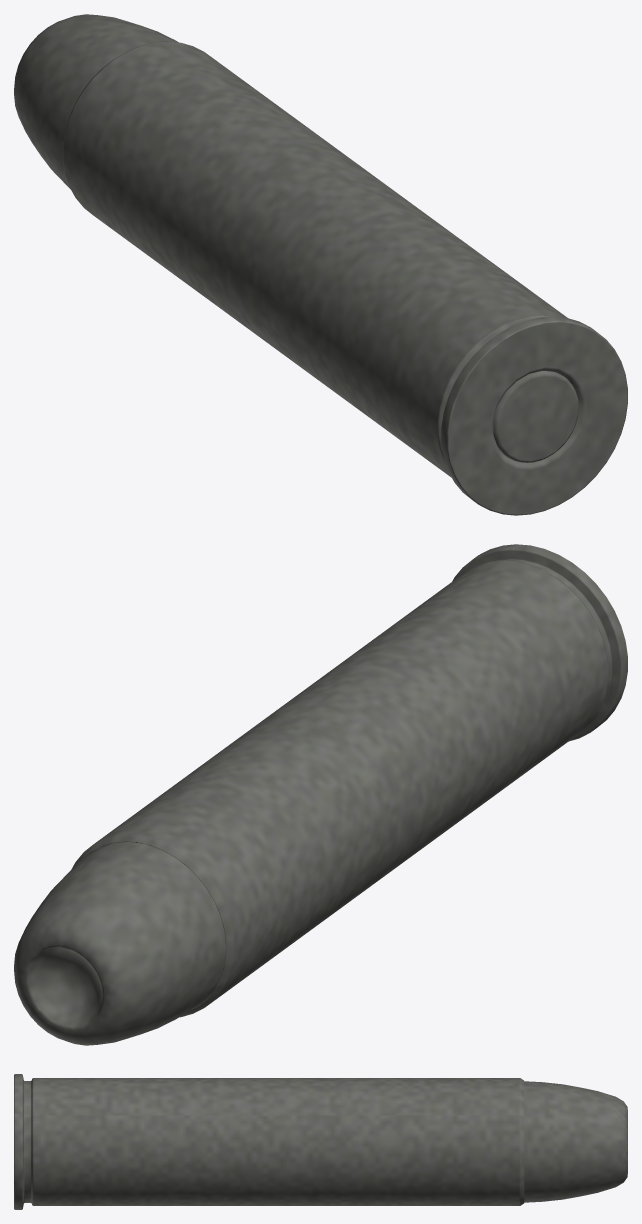
File: ka2bullet.obj
3 views of the same model, one above another, from view 1: azimuth 30°, elevation 25°; view 2: azimuth 150°, elevation 25°; view 3: azimuth 270°, elevation 25° (orthographic). The views are drawn at different scales.
Parts seen in each view (by area): view 1: kalinaann2bullet_ka2bullet; view 2: kalinaann2bullet_ka2bullet; view 3: kalinaann2bullet_ka2bullet.
Part boxes in pixels (x1=…): kalinaann2bullet_ka2bullet: x1=14, y1=14, x2=627, y2=515; kalinaann2bullet_ka2bullet: x1=14, y1=544, x2=627, y2=1045; kalinaann2bullet_ka2bullet: x1=14, y1=1074, x2=627, y2=1209.
Size of the model in its own units: 0.4221 by 0.4221 by 1.91.
